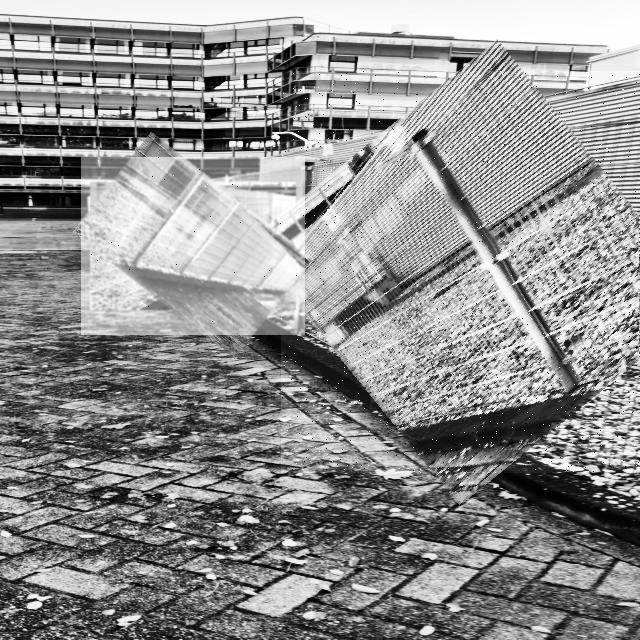fences: (281, 71, 640, 473), (81, 157, 305, 335)
